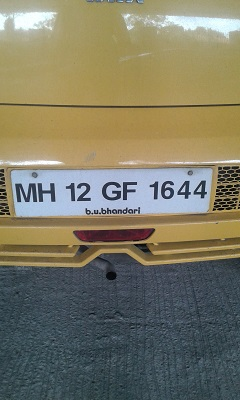licenseplate: (9, 168, 216, 220)
